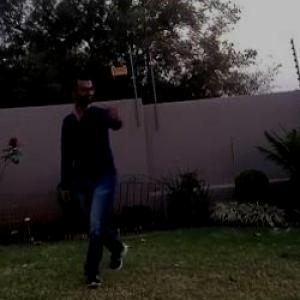takeoff-hand: (100, 97, 126, 132)
